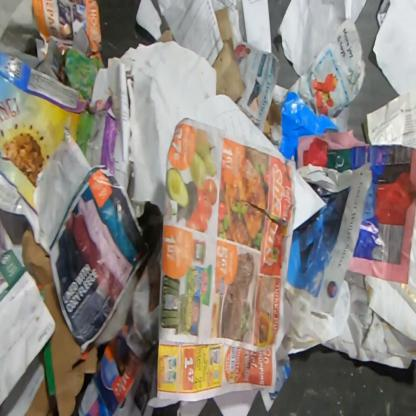cardboard: (0, 46, 117, 256), (20, 226, 99, 415), (278, 91, 338, 170), (0, 350, 59, 415), (262, 97, 282, 141)
